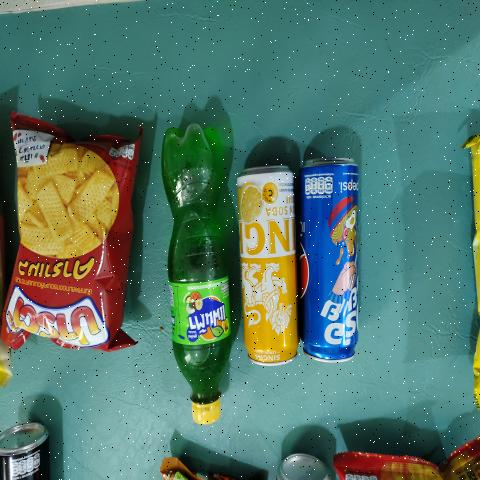fanta_green: (161, 103, 234, 430)
party_red: (25, 146, 114, 336)
pepsi_blue: (300, 151, 362, 356)
singha_yellow: (239, 160, 300, 364)
